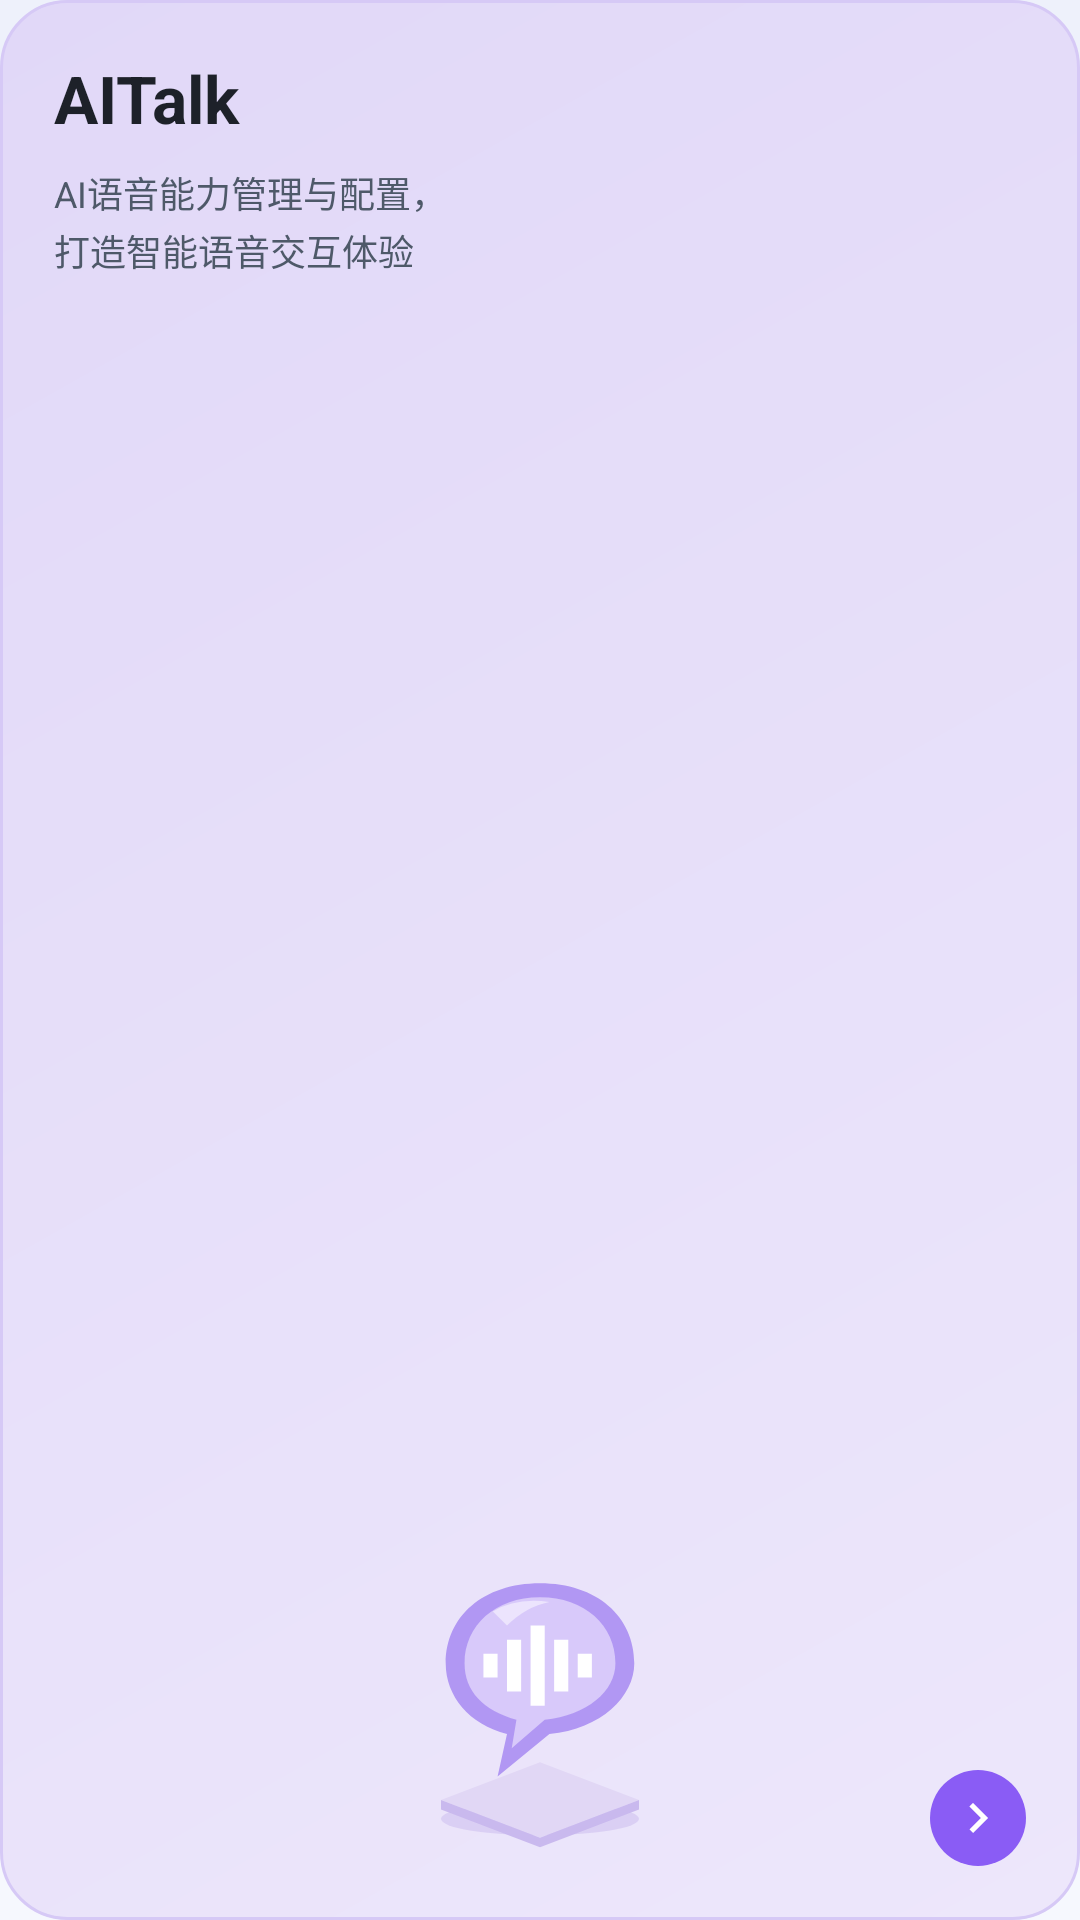

Named icons in this screenshot (1080 × 1920) and their centers, point (x, y):
home arrow right: point (978, 1818)
home card aitalk: point (540, 1715)
